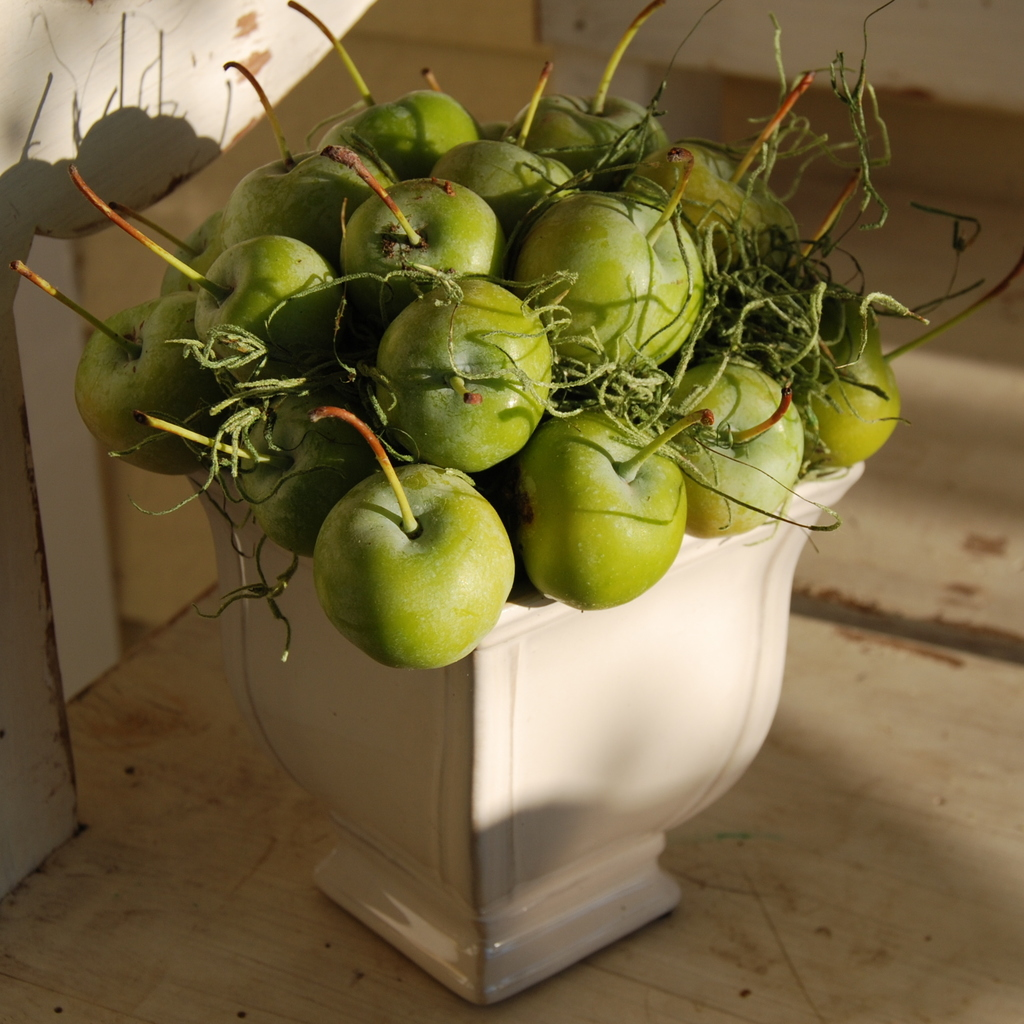Apple: (74, 72, 917, 673)
